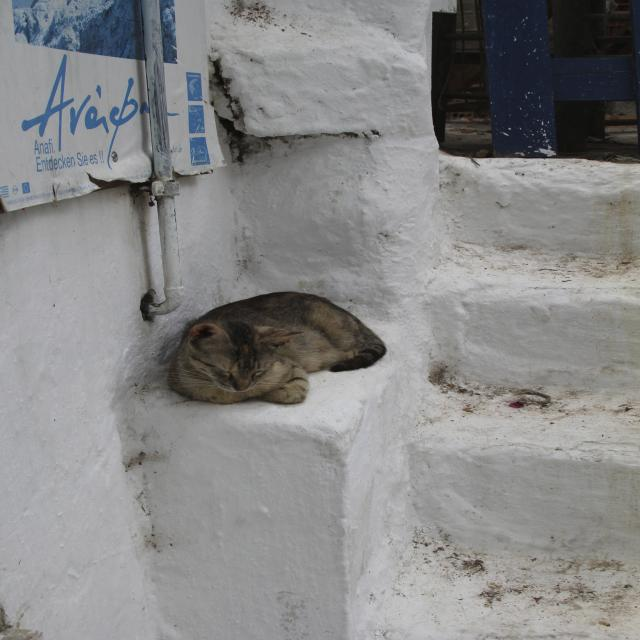cat: (169, 291, 386, 404)
